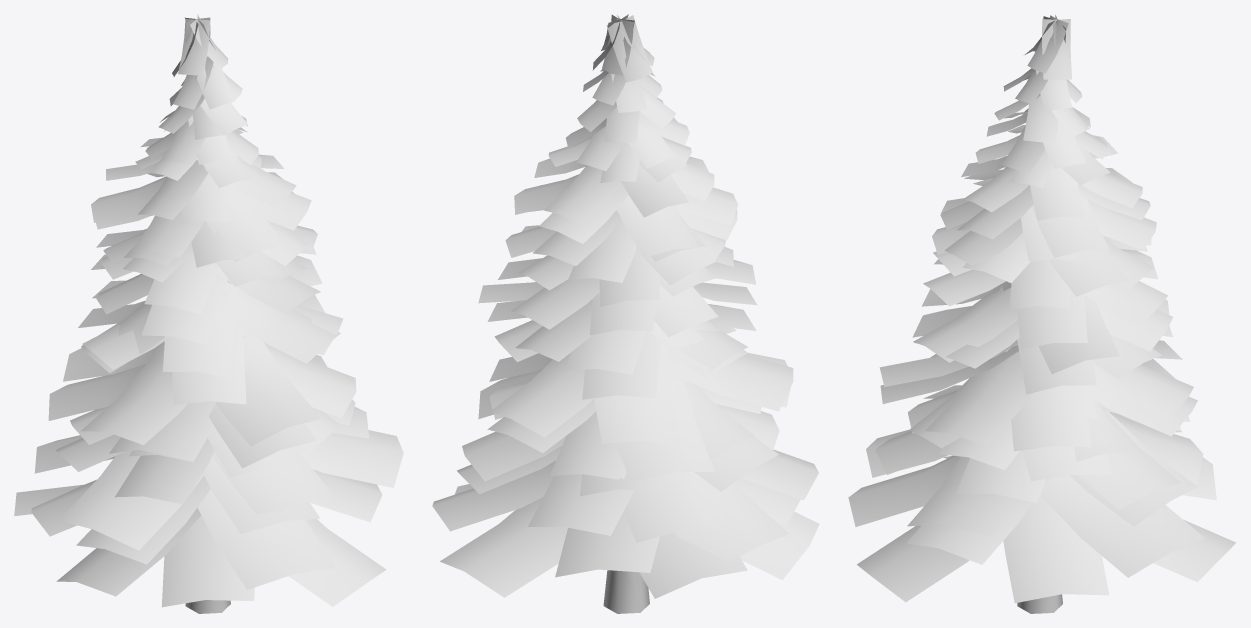
The model's file is STPine3.glb.
3 renders of one model, left to right at view 1: azimuth 30°, elevation 25°; view 2: azimuth 150°, elevation 25°; view 3: azimuth 270°, elevation 25°, orthographic. The views are drawn at different scales.
Visible parts, largest first — view 1: PineTree3; view 2: PineTree3; view 3: PineTree3.
Boxes of the visible parts, x1=… form: PineTree3: x1=14, y1=14, x2=403, y2=613; PineTree3: x1=432, y1=14, x2=819, y2=613; PineTree3: x1=848, y1=15, x2=1236, y2=613.
Bounding box in the file's own units: 7.54 × 12.87 × 7.74.
2 materials, 1 textured.
